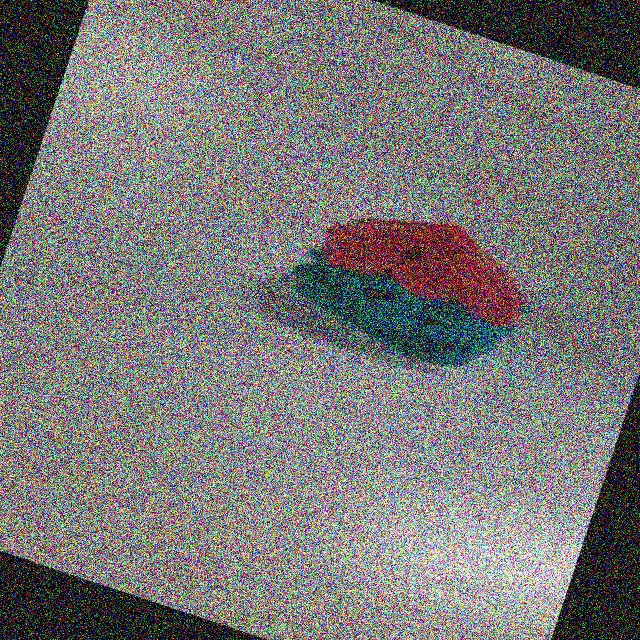House: (253, 164, 554, 391)
